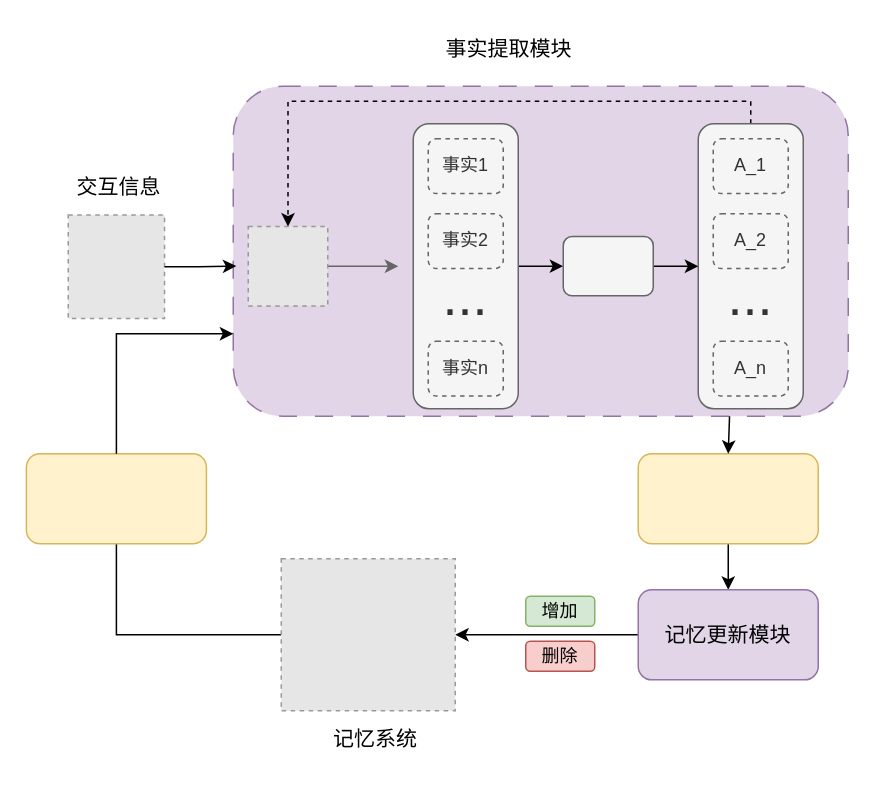
Image size: 875x786. Some labels were removed from this diagram. Grey dashed boxes stand in for pictures. The shapes that lost their labels are listed below. From the top down, each one's box as (x1, y1, x2, y2) in pixels, then its label:
(562, 235, 653, 296): 规则 匹配器
(25, 452, 206, 544): 现有记忆归纳
(637, 452, 818, 544): 关键事实
